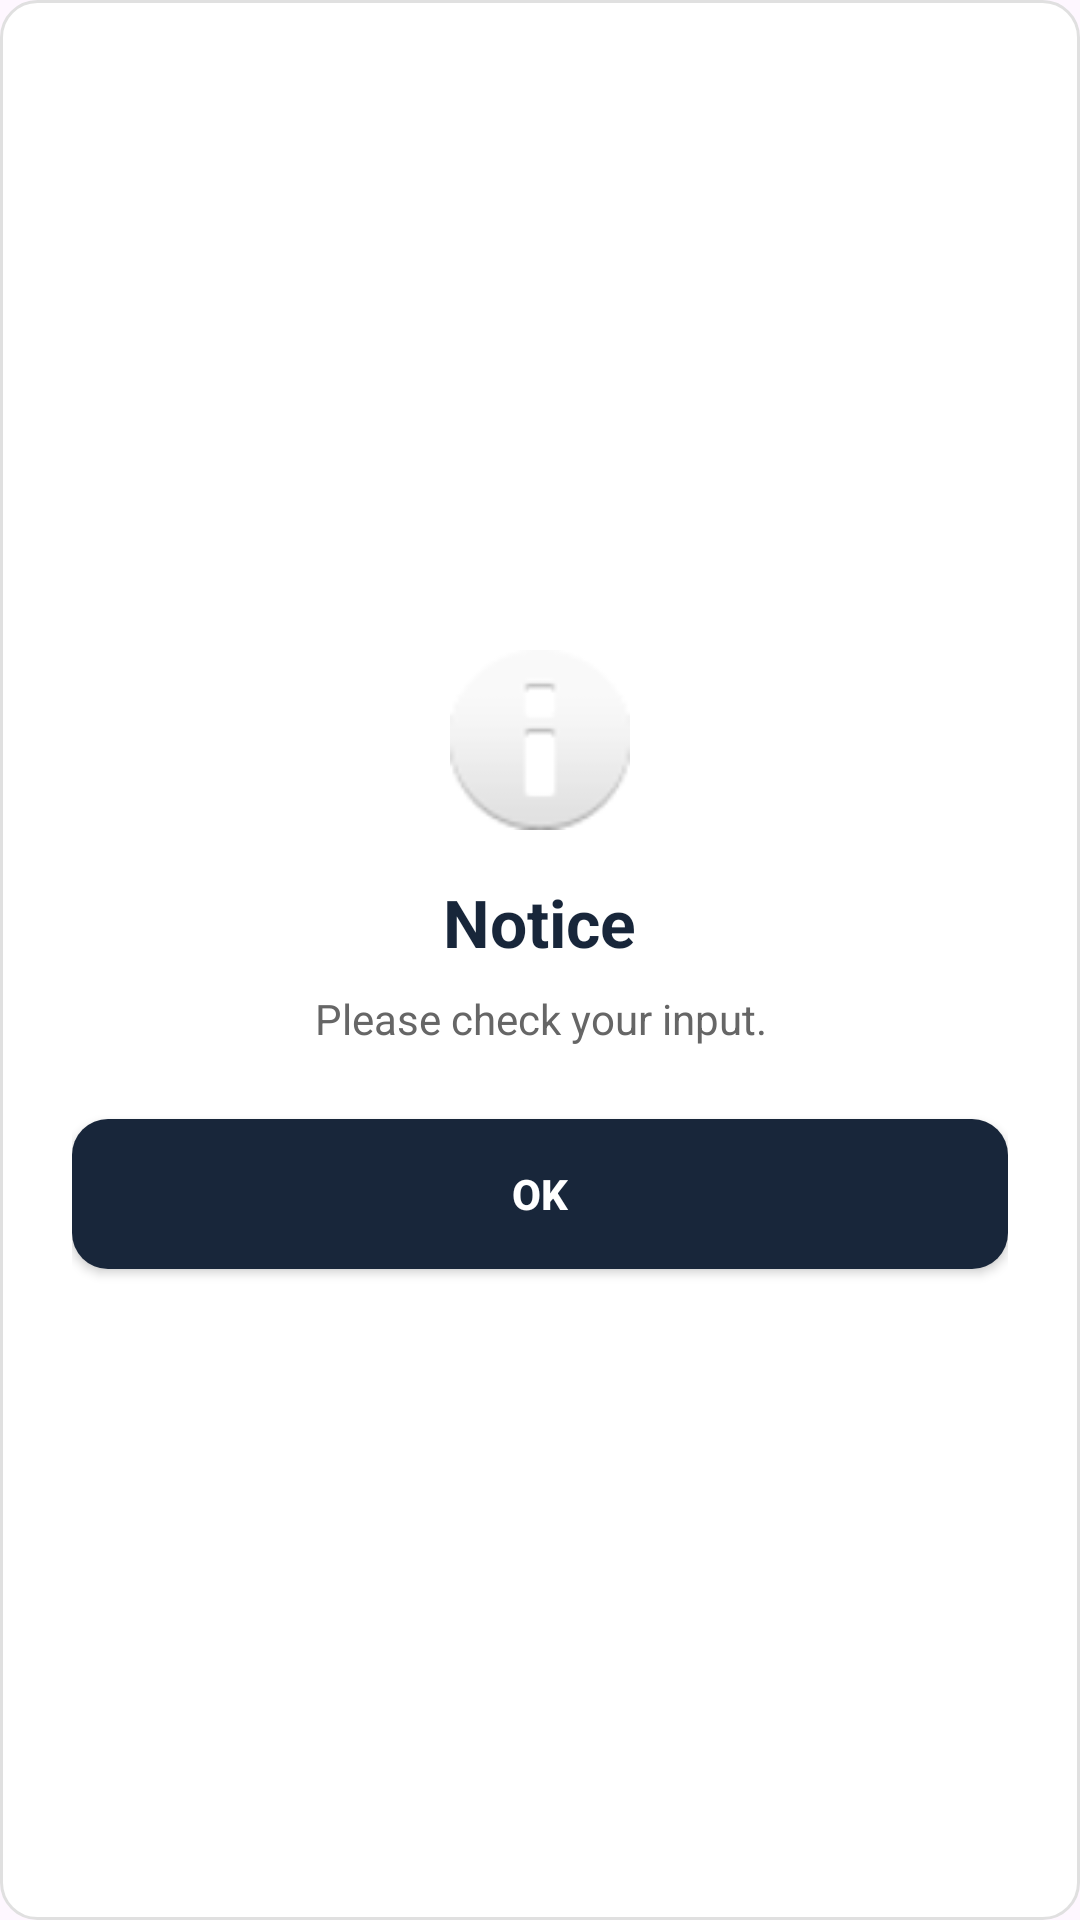

Screen size 1080×1920. Icon name, then its center in pixels as point (x, y):
Info: point (540, 756)
